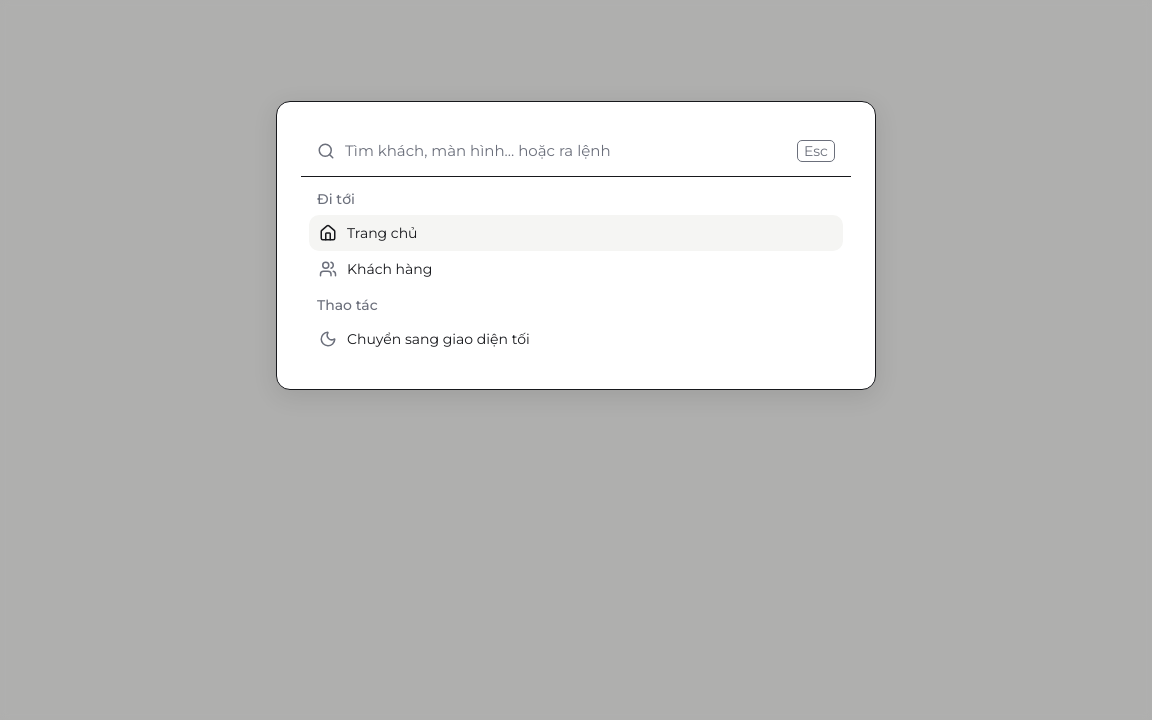
Test case: bảng lệnh ⌘K theo Arc › không khớp gì → màn trống có hướng dẫn
Type "zzzz" into the dropdown with placeholder "Tìm khách, màn hình… hoặc ra lệnh". click: x=566, y=151
box: [345,140,787,162]
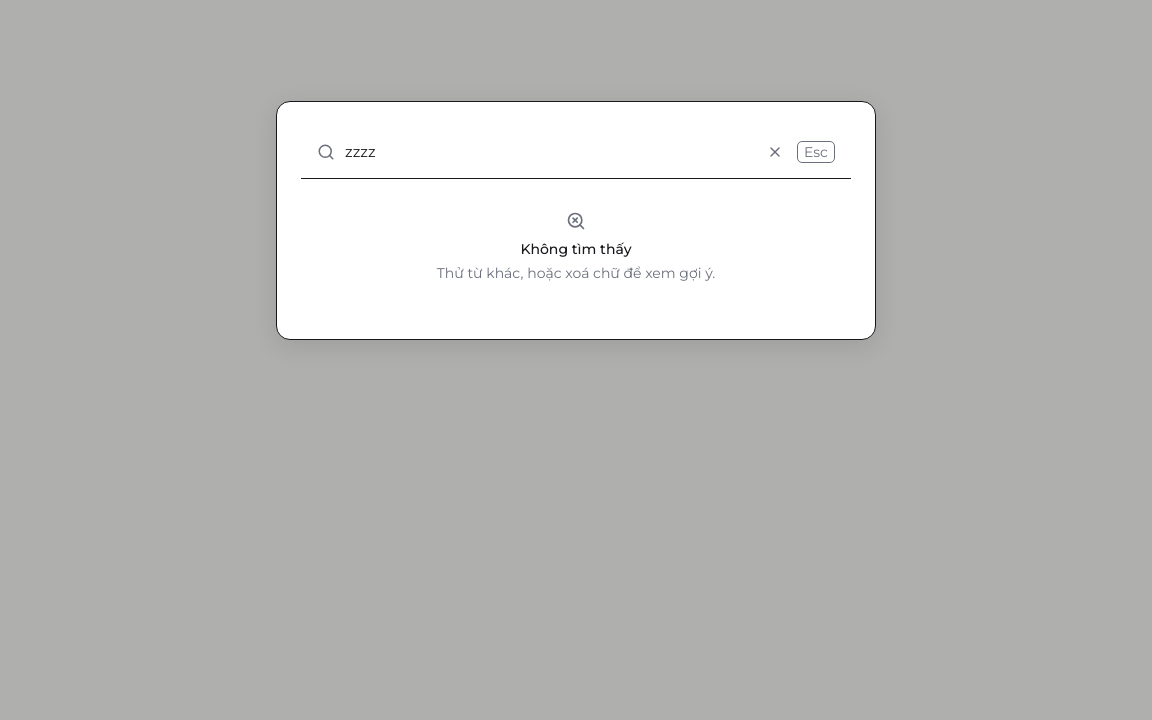
Expected: the text "Không tìm thấy" is shown, [520,239,632,259]
Expected: the text "Thử từ khác, hoặc xoá chữ để xem gợi ý." is shown, [437,263,715,283]
